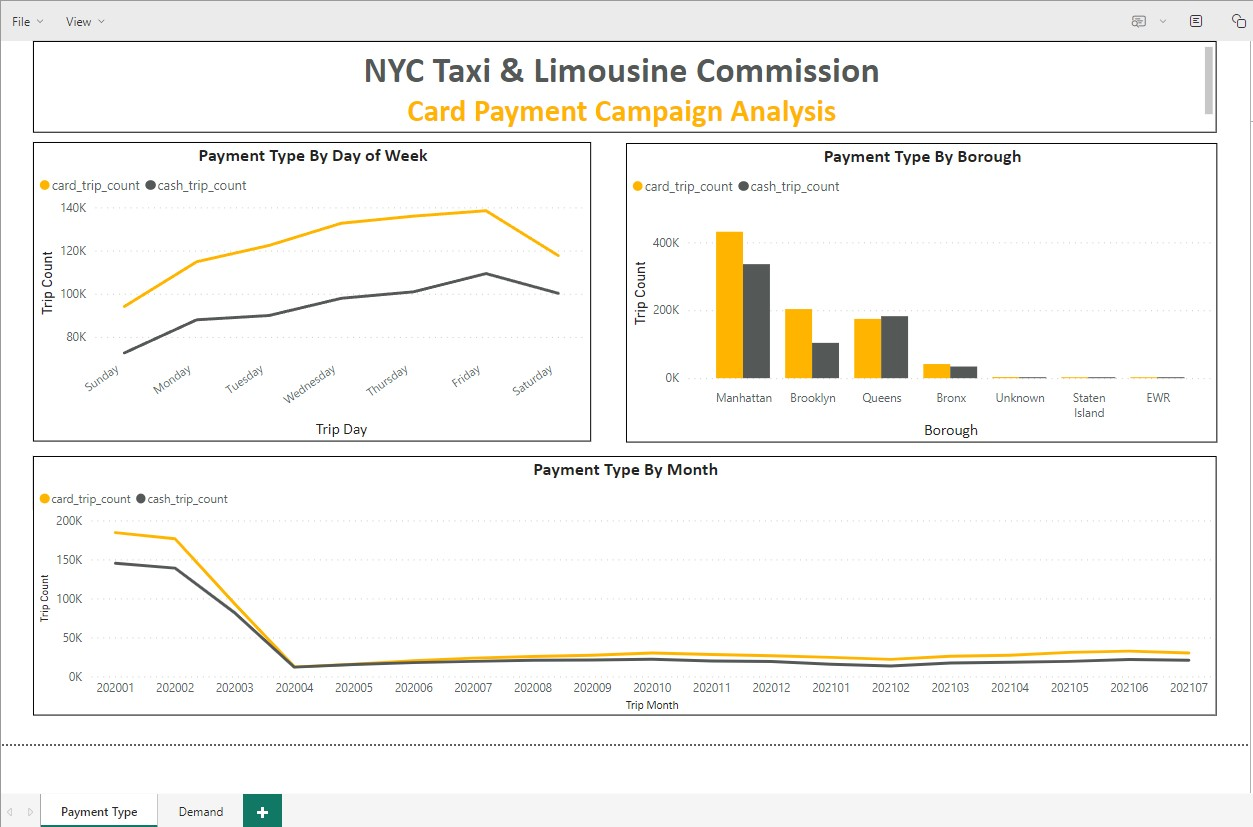

The dashboard page shown, as its layout file describes it:
{"tool":"powerbi","page":{"name":"Payment Type","canvas":[1280,720],"ordinal":0},"visuals":[{"type":"lineChart","title":"Payment Type By Day of Week","fields":{"Category":["gold vw_trip_data_green.trip_day"],"Y":["Sum(gold vw_trip_data_green.card_trip_count)","Sum(gold vw_trip_data_green.cash_trip_count)"]},"box":[33,104,572,307],"z":0},{"type":"clusteredColumnChart","title":"Payment Type By Borough","fields":{"Category":["gold vw_trip_data_green.borough"],"Y":["Sum(gold vw_trip_data_green.card_trip_count)","Sum(gold vw_trip_data_green.cash_trip_count)"]},"box":[640,104.1,606,307.4],"z":1000},{"type":"lineChart","title":"Payment Type By Month","fields":{"Y":["Sum(gold vw_trip_data_green.card_trip_count)","Sum(gold vw_trip_data_green.cash_trip_count)"],"Category":["gold vw_trip_data_green.year_month"]},"box":[33.1,425,1212.9,265.5],"z":2000},{"type":"textbox","box":[33.1,0,1212.9,94.3],"z":3000}]}

Visuals, with their boxes on the page's 1280x720 design canvas (x1, y1, x2, y2). These are canvas units, not pixel positions in the 1253x827 screenshot, which may show the page scaled, cropped or inside an application window:
"Payment Type By Day of Week" lineChart: [33,104,605,411]
"Payment Type By Borough" clusteredColumnChart: [640,104,1246,412]
"Payment Type By Month" lineChart: [33,425,1246,690]
textbox: [33,0,1246,94]
